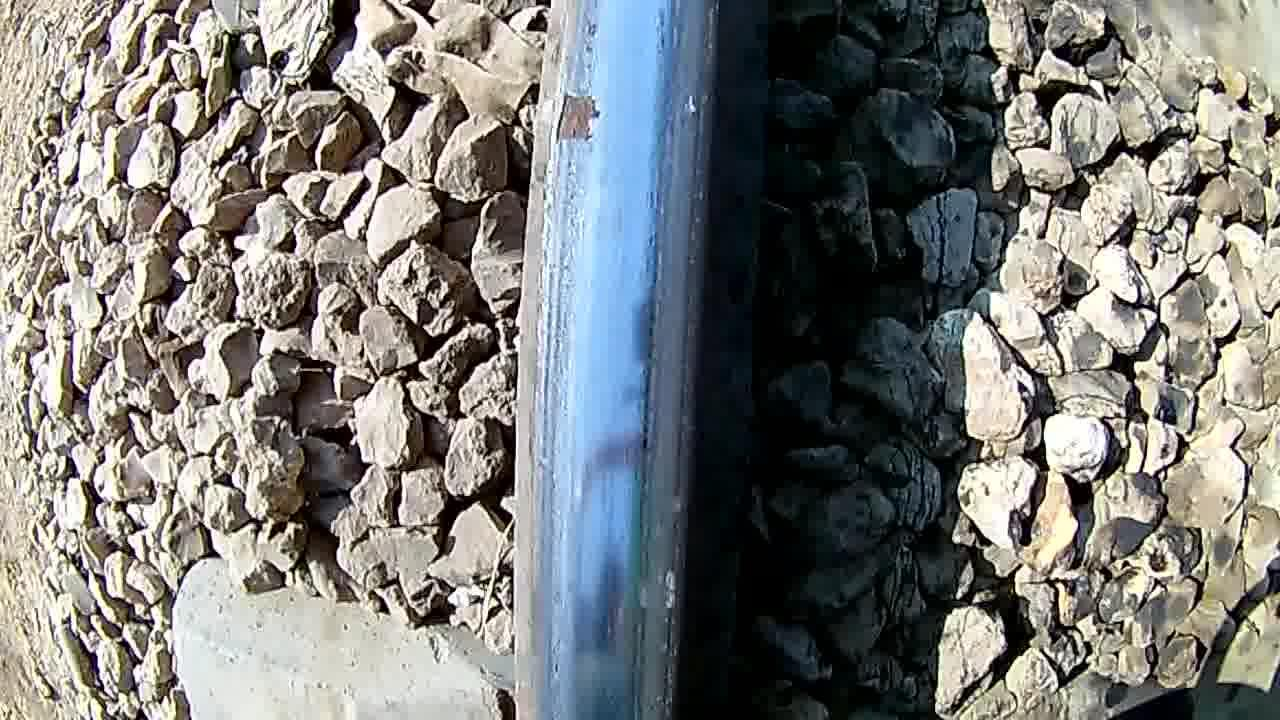crack: (526, 0, 712, 720)
